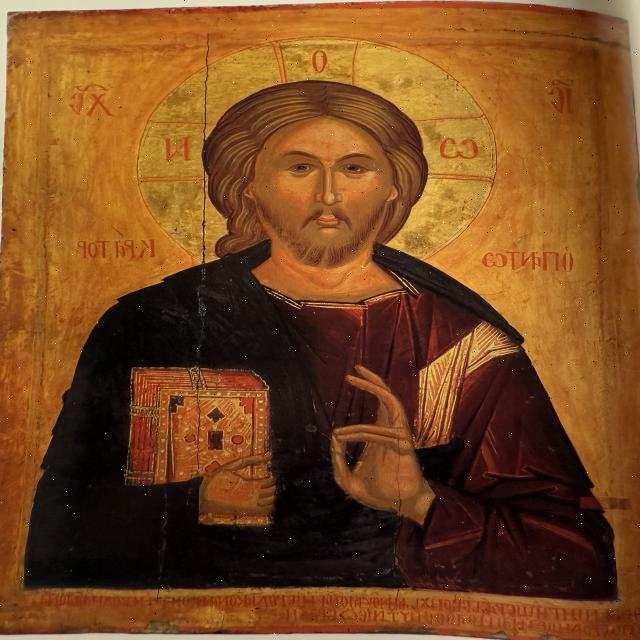aura: (138, 35, 496, 261)
book: (114, 361, 280, 527)
christ: (17, 35, 615, 595)
christ_hand: (317, 366, 455, 526)
